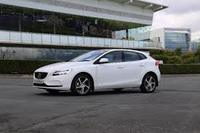car: (95, 74, 137, 103), (128, 60, 153, 74)
